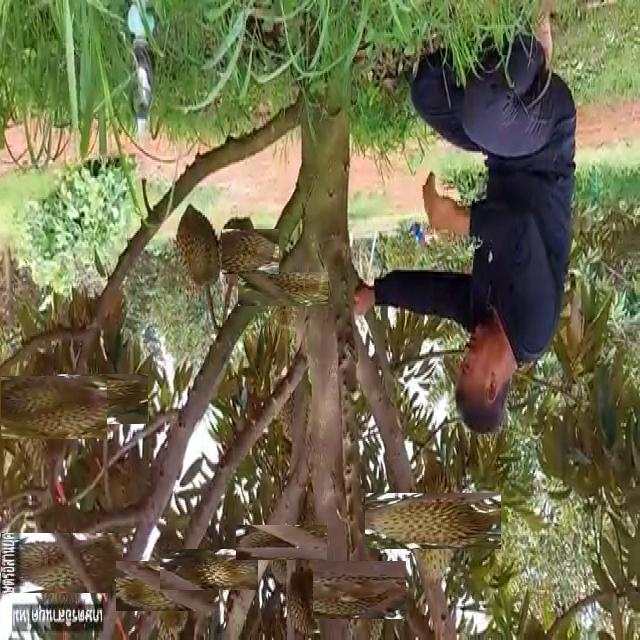durian: (385, 472, 481, 569), (0, 362, 93, 454), (16, 518, 108, 608), (129, 547, 206, 625), (322, 552, 398, 628), (68, 363, 138, 434), (174, 535, 244, 605), (172, 199, 222, 296), (250, 511, 313, 574), (208, 220, 270, 284), (251, 258, 314, 320)
